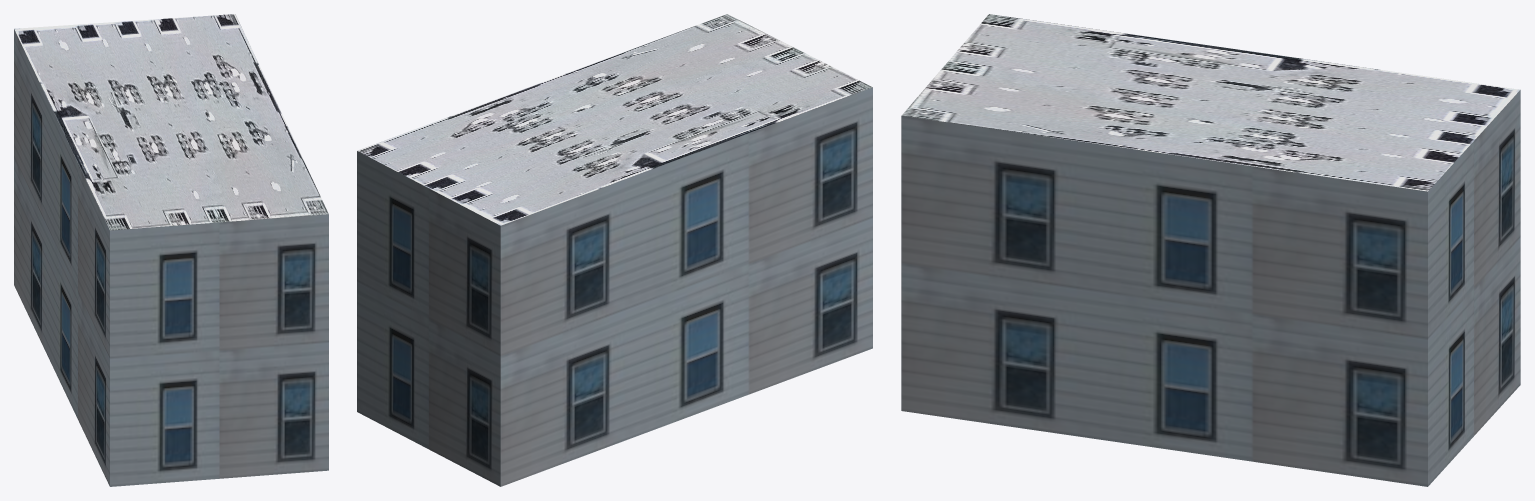
Rendered from ResTex__405.fbx.
The picture shows the model from 3 angles, left to right: view 1: azimuth 30°, elevation 25°; view 2: azimuth 150°, elevation 25°; view 3: azimuth 270°, elevation 25°; orthographic projection. The views are drawn at different scales.
Parts seen in each view (by area): view 1: CityEngineMaterial_18_m, CityEngineMaterial_4_m; view 2: CityEngineMaterial_18_m, CityEngineMaterial_4_m; view 3: CityEngineMaterial_18_m, CityEngineMaterial_4_m.
Boxes of the visible parts, <box> form: CityEngineMaterial_18_m: <box>14,29,328,486</box>; CityEngineMaterial_4_m: <box>14,14,328,230</box>; CityEngineMaterial_18_m: <box>357,87,872,486</box>; CityEngineMaterial_4_m: <box>357,14,872,225</box>; CityEngineMaterial_18_m: <box>901,90,1520,486</box>; CityEngineMaterial_4_m: <box>902,14,1519,191</box>.
Size of the model in its own units: 7.74 by 6 by 11.4.
2 materials, 2 textured.
